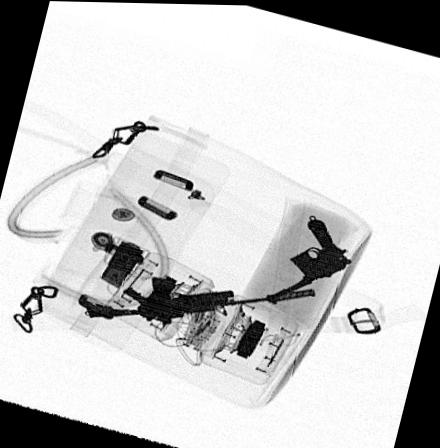Gun: (86, 274, 316, 327), (266, 217, 353, 305)
